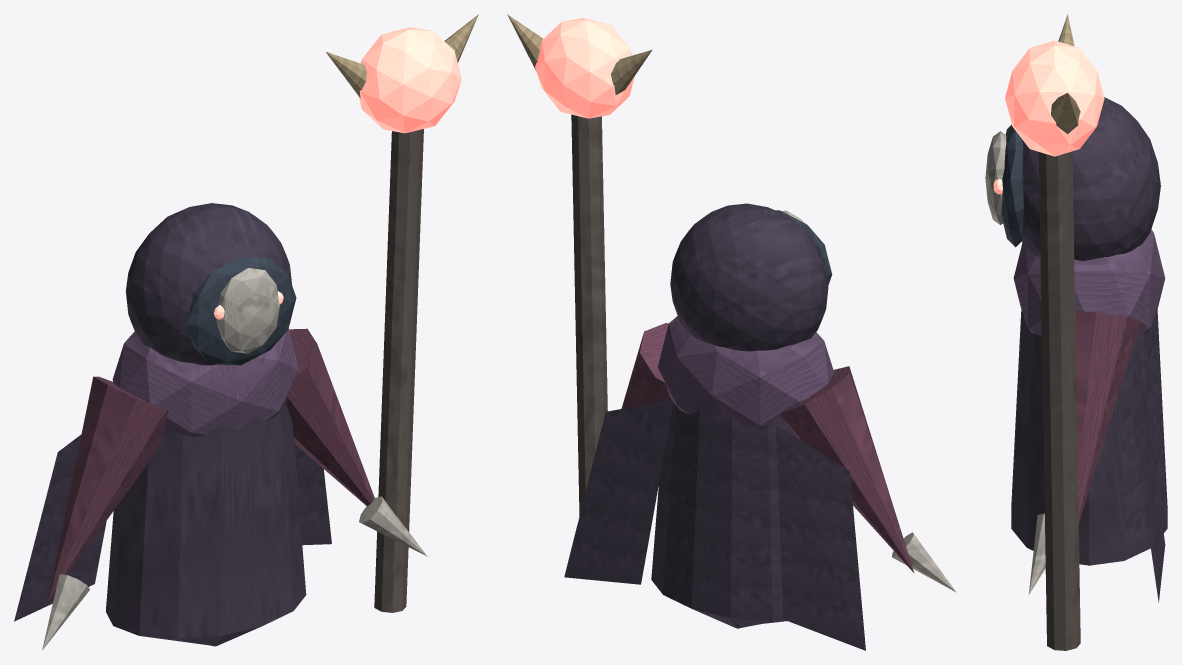
The model's file is phantom_mage.glb.
The picture shows the model from 3 angles, left to right: view 1: azimuth 30°, elevation 25°; view 2: azimuth 150°, elevation 25°; view 3: azimuth 270°, elevation 25°; orthographic projection. The views are drawn at different scales.
Parts seen in each view (by area): view 1: darkcloth, wine, wood, purple, glowred, bone, blackiron, gold; view 2: darkcloth, purple, wine, wood, glowred, gold, bone; view 3: darkcloth, wood, glowred, purple, wine, blackiron, bone, gold.
Part boxes in pixels (bbox=[...]): darkcloth: bbox=[14, 203, 331, 646]; wine: bbox=[47, 328, 374, 601]; wood: bbox=[374, 129, 423, 612]; purple: bbox=[112, 328, 298, 437]; glowred: bbox=[214, 27, 461, 319]; bone: bbox=[42, 268, 427, 650]; blackiron: bbox=[185, 257, 296, 365]; gold: bbox=[326, 14, 478, 97]; darkcloth: bbox=[564, 203, 865, 650]; purple: bbox=[658, 316, 834, 429]; wine: bbox=[621, 323, 914, 573]; wood: bbox=[571, 114, 607, 516]; glowred: bbox=[535, 18, 634, 118]; gold: bbox=[507, 14, 652, 94]; bone: bbox=[782, 210, 956, 592]; darkcloth: bbox=[1011, 97, 1167, 602]; wood: bbox=[1038, 151, 1080, 650]; glowred: bbox=[993, 40, 1104, 194]; purple: bbox=[1013, 229, 1165, 336]; wine: bbox=[1040, 311, 1140, 523]; blackiron: bbox=[1001, 124, 1023, 247]; bone: bbox=[985, 131, 1045, 594]; gold: bbox=[1051, 14, 1080, 134].
Bounding box in the file's own units: 2.55 × 3.08 × 0.8407.
Materials: 8 (8 with a texture image).
